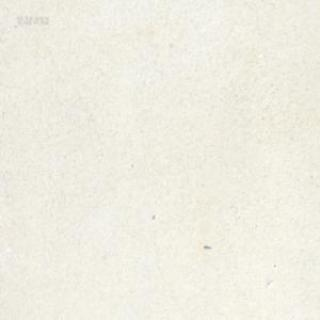Nailtrack_idkeyframe: (203, 243, 210, 249)
